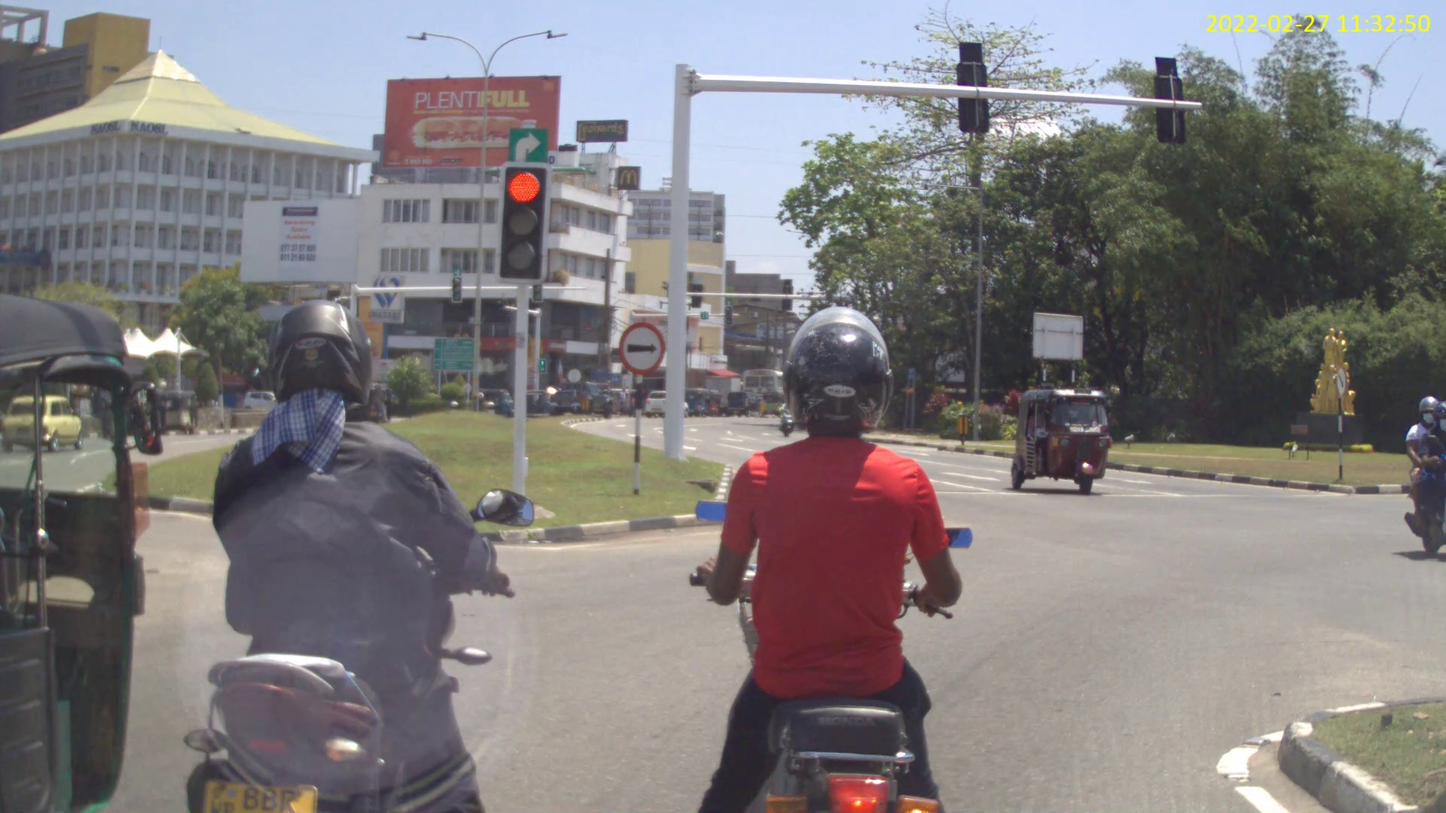Green: (452, 276, 462, 303)
Red: (495, 162, 550, 285)
